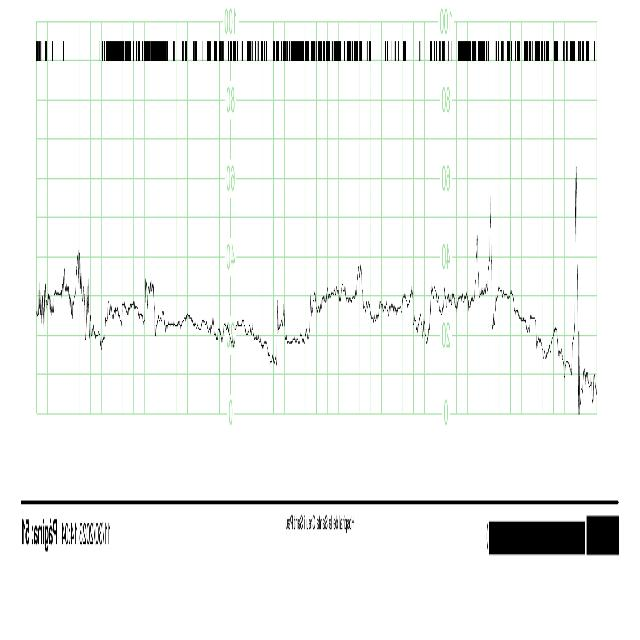contraction: (568, 156, 582, 402), (474, 185, 496, 326)
